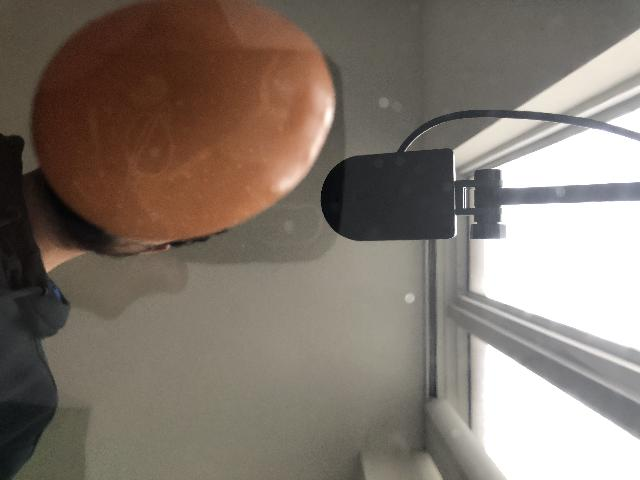Sano: (30, 1, 337, 247)
